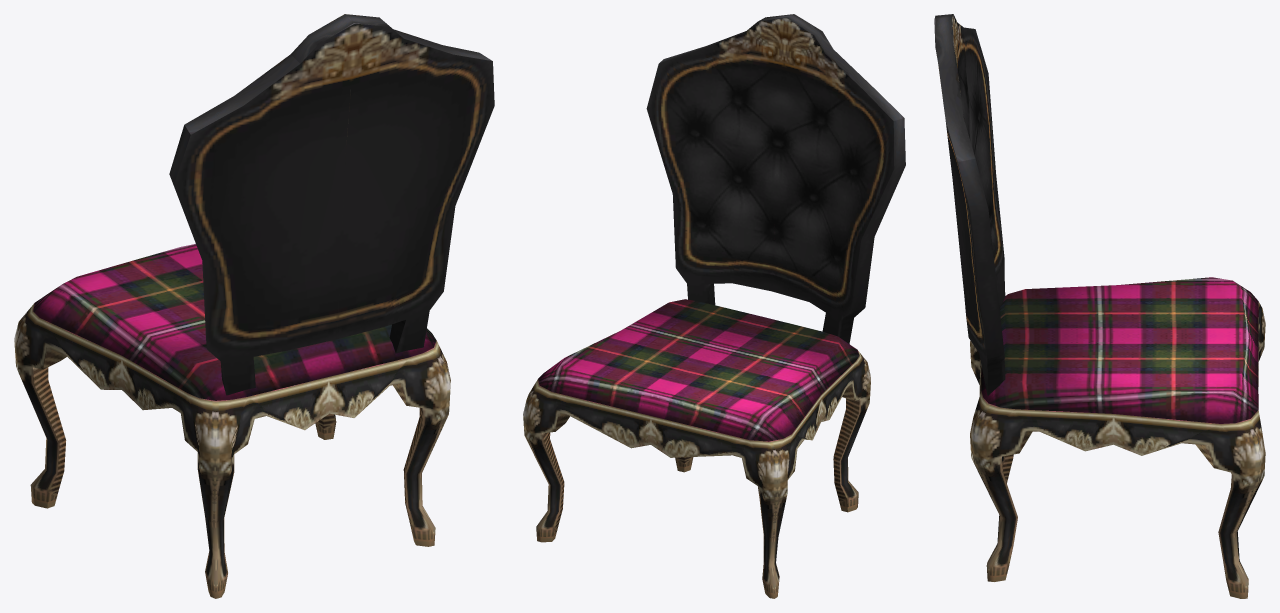
Rendered from furni_0200312_01.FBX.
The picture shows the model from 3 angles, left to right: view 1: azimuth 30°, elevation 25°; view 2: azimuth 150°, elevation 25°; view 3: azimuth 270°, elevation 25°; orthographic projection. The views are drawn at different scales.
Parts seen in each view (by area): view 1: furni_0200312_01; view 2: furni_0200312_01; view 3: furni_0200312_01.
Part boxes in pixels (<box>): furni_0200312_01: <box>14,14,494,598</box>; furni_0200312_01: <box>523,14,905,598</box>; furni_0200312_01: <box>934,14,1265,598</box>.
Size of the model in its own units: 70.95 by 118 by 68.65.
